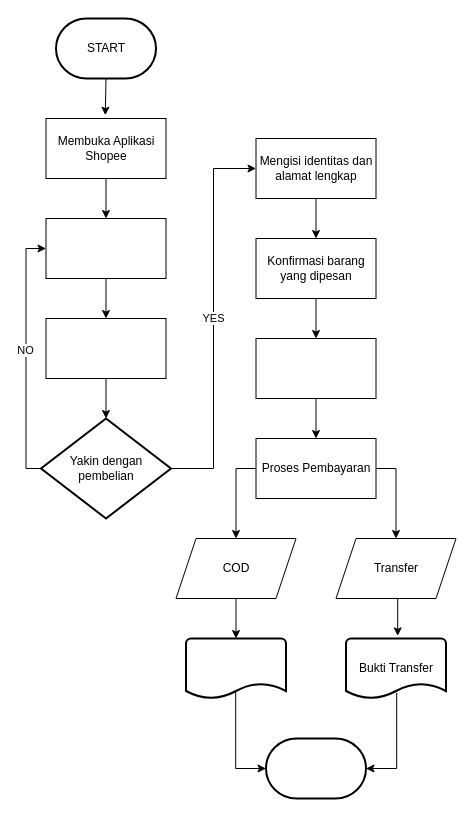
Some shapes in this 474 by 816 pixel diagram are drawn without their labels. The centre of each missing label's shape, as x and y in pixels:
Memilih kategori produk yang dibutuhkan: [105,248]
Memilih produk yang diinginkan: [105,348]
Proses Selesai: [315,768]
Tampilan total harga beli / checkout: [315,368]
Tanda Terima Barang: [235,668]
